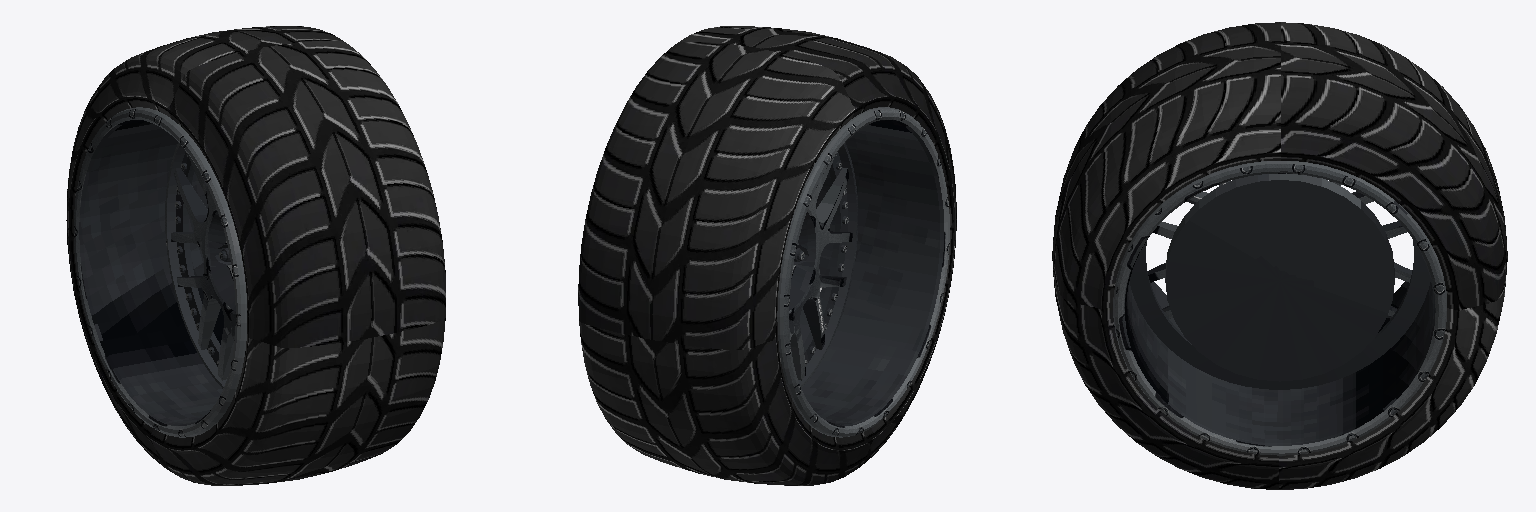
3 renders of one model, left to right at view 1: azimuth 30°, elevation 25°; view 2: azimuth 150°, elevation 25°; view 3: azimuth 270°, elevation 25°, orthographic.
Visible parts, largest first — view 1: Llanta_Trasera_Der; view 2: Llanta_Trasera_Der; view 3: Llanta_Trasera_Der.
Part boxes in pixels (x1,y1,x2,y2): Llanta_Trasera_Der: (66,26,445,485); Llanta_Trasera_Der: (578,26,956,485); Llanta_Trasera_Der: (1052,22,1507,489).
Size of the model in its own units: 1.11 by 2 by 2.
2 materials, 2 textured.